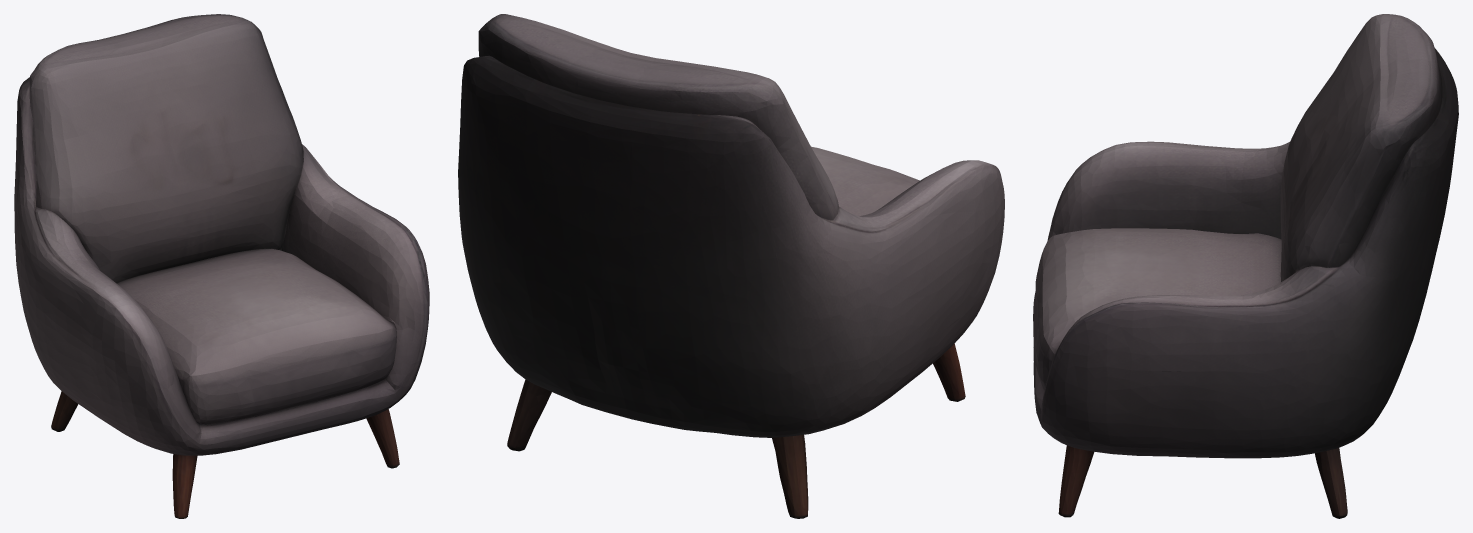
Rendered from chair-20k.glb.
The picture shows the model from 3 angles, left to right: view 1: azimuth 30°, elevation 25°; view 2: azimuth 150°, elevation 25°; view 3: azimuth 270°, elevation 25°; orthographic projection. The views are drawn at different scales.
Visible parts, largest first — view 1: world; view 2: world; view 3: world.
Boxes of the visible parts, x1=… form: world: x1=14, y1=14, x2=429, y2=518; world: x1=458, y1=14, x2=1004, y2=518; world: x1=1033, y1=14, x2=1458, y2=518.
Size of the model in its own units: 0.9493 by 0.9997 by 0.9901.
1 material, 1 textured.
